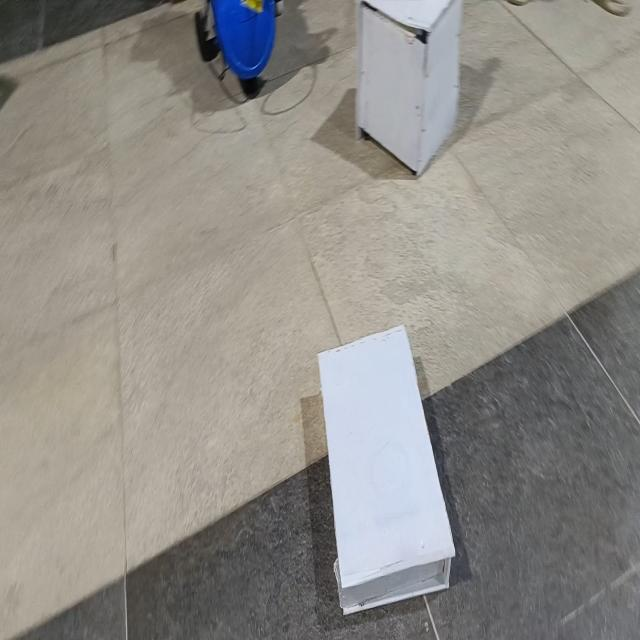Cube: (354, 0, 463, 177)
Cuboid: (316, 322, 456, 614)
